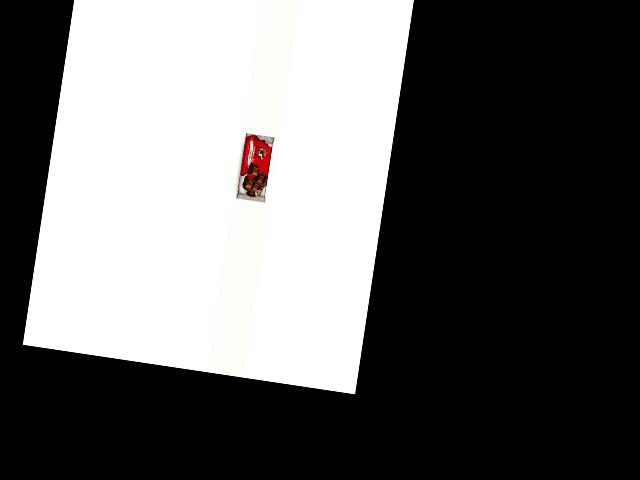chocolate: (220, 120, 272, 203)
